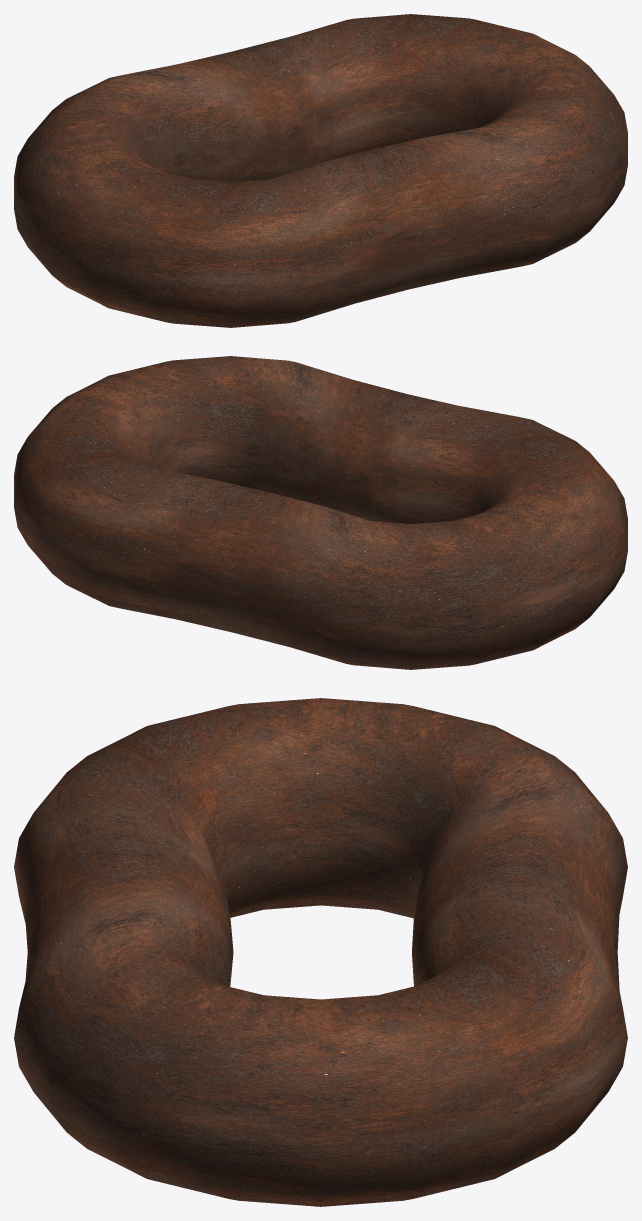
The model's file is ChainLink.fbx.
3 views of the same model, one above another, from view 1: azimuth 30°, elevation 25°; view 2: azimuth 150°, elevation 25°; view 3: azimuth 270°, elevation 25° (orthographic). The views are drawn at different scales.
Parts seen in each view (by area): view 1: pTorus1; view 2: pTorus1; view 3: pTorus1.
Boxes of the visible parts, left/top/right/bottom form: pTorus1: left=14, top=14, right=627, bottom=327; pTorus1: left=14, top=356, right=627, bottom=669; pTorus1: left=14, top=698, right=627, bottom=1206.
Size of the model in its own units: 4.41 by 1 by 2.94.
